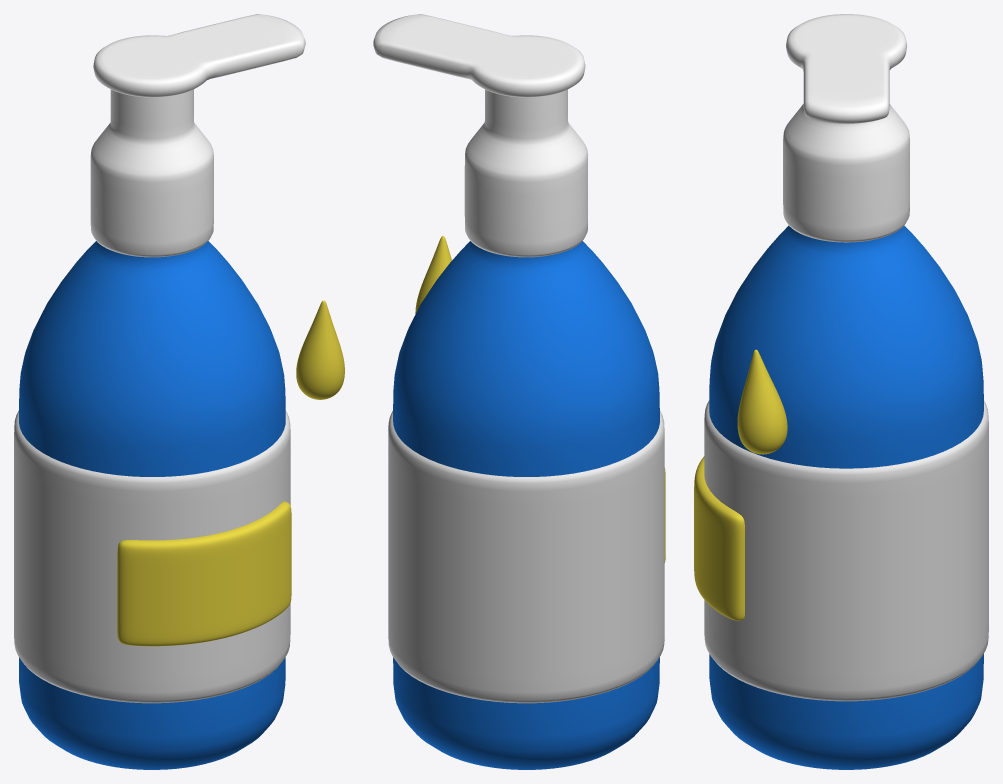
Rendered from body-lotion-3d-animated-icon-1069216725849.glb.
3 views of the same model, side by side, from view 1: azimuth 30°, elevation 25°; view 2: azimuth 150°, elevation 25°; view 3: azimuth 270°, elevation 25° (orthographic). The views are drawn at different scales.
Visible parts, largest first — view 1: Cylinder.078, Cylinder.080, Cylinder.054, Cylinder.079, Circle, Cylinder.015; view 2: Cylinder.078, Cylinder.080, Cylinder.079, Circle, Cylinder.015; view 3: Cylinder.078, Cylinder.080, Cylinder.079, Circle, Cylinder.054, Cylinder.015.
Boxes of the visible parts, bbox=[...] form: Cylinder.078: bbox=[19, 241, 285, 769]; Cylinder.080: bbox=[14, 410, 290, 703]; Cylinder.054: bbox=[117, 501, 291, 646]; Cylinder.079: bbox=[90, 89, 213, 257]; Circle: bbox=[93, 14, 305, 97]; Cylinder.015: bbox=[296, 300, 344, 399]; Cylinder.078: bbox=[393, 241, 659, 769]; Cylinder.080: bbox=[388, 411, 664, 703]; Cylinder.079: bbox=[464, 89, 587, 257]; Circle: bbox=[373, 14, 585, 97]; Cylinder.015: bbox=[415, 236, 451, 314]; Cylinder.078: bbox=[709, 225, 983, 769]; Cylinder.080: bbox=[704, 400, 988, 701]; Cylinder.079: bbox=[783, 104, 909, 242]; Circle: bbox=[786, 14, 906, 123]; Cylinder.054: bbox=[694, 456, 744, 620]; Cylinder.015: bbox=[737, 349, 787, 454].
Size of what is drawn, in the model's own units: 1.96 by 4.72 by 1.81.
